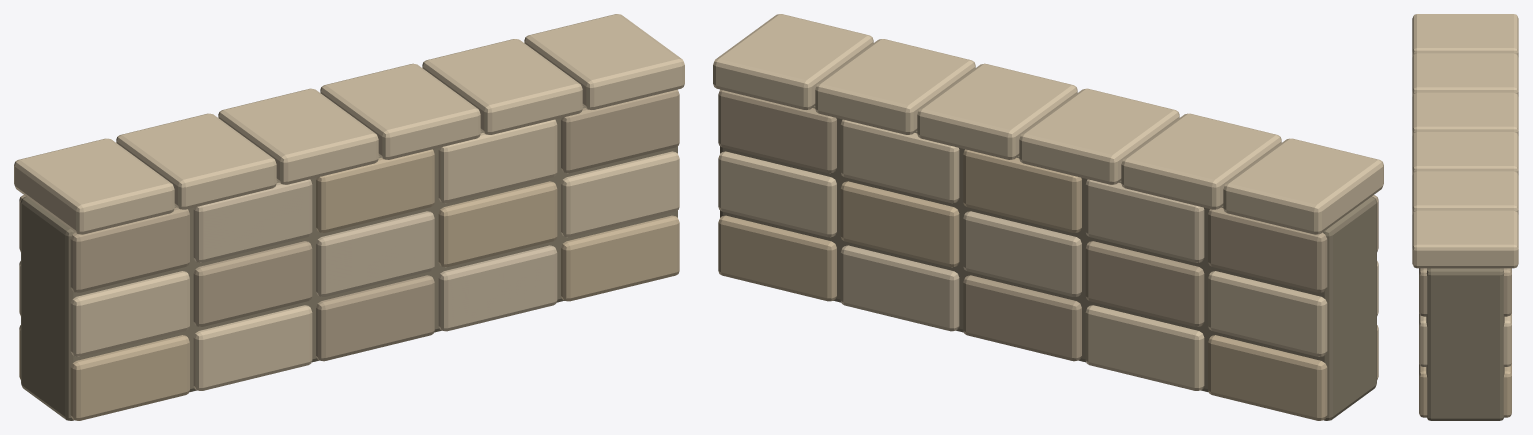
The model's file is low_stone_boundary.glb.
3 renders of one model, left to right at view 1: azimuth 30°, elevation 25°; view 2: azimuth 150°, elevation 25°; view 3: azimuth 270°, elevation 25°, orthographic. The views are drawn at different scales.
Parts seen in each view (by area): view 1: low_stone_boundary; view 2: low_stone_boundary; view 3: low_stone_boundary.
Part boxes in pixels (x1,y1,x2,y2): low_stone_boundary: [14, 14, 684, 420]; low_stone_boundary: [713, 14, 1383, 420]; low_stone_boundary: [1412, 14, 1518, 420].
Bounding box in the file's own units: 3 × 1.04 × 0.57.
